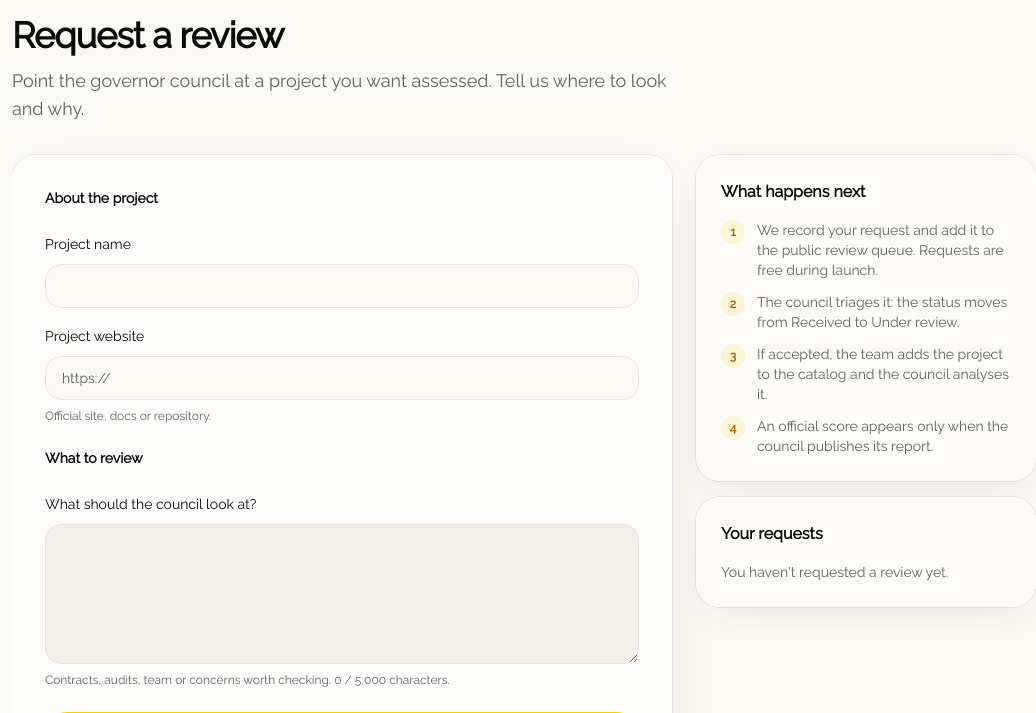
Test: AnalysisRequestPage › signed in › asks to sign in again when the session has expired
Type "Orbit Bridge" into the field labelled "Project name" at (342, 286), box [45,264,639,308]
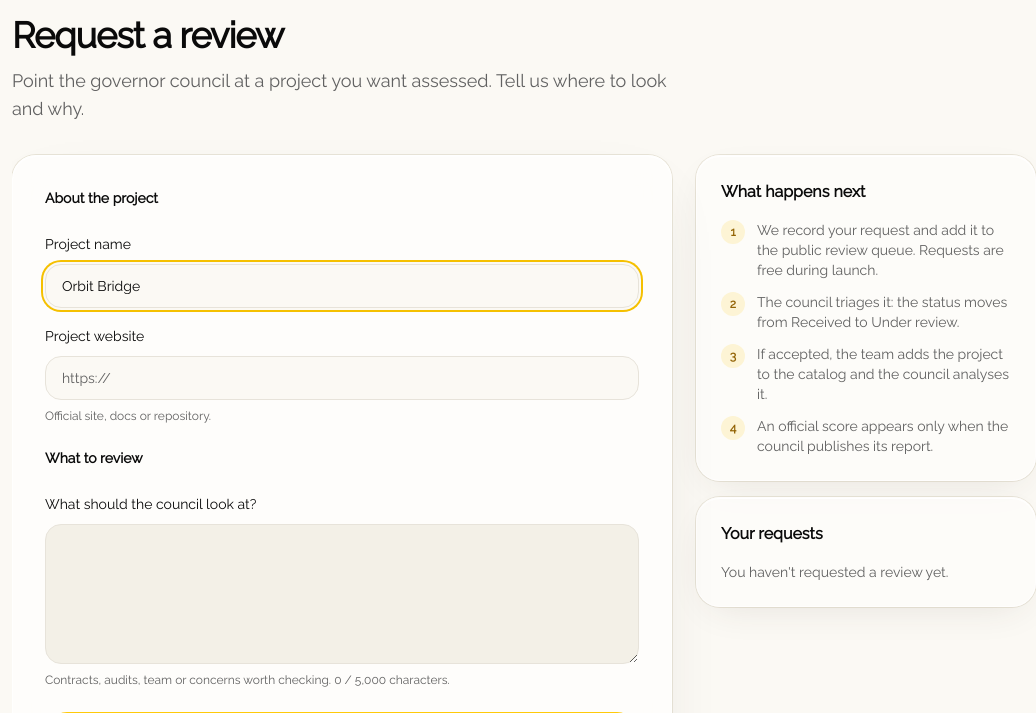
Type "https://orbit.example" into the field labelled "Project website" at (342, 378), box [45,356,639,400]
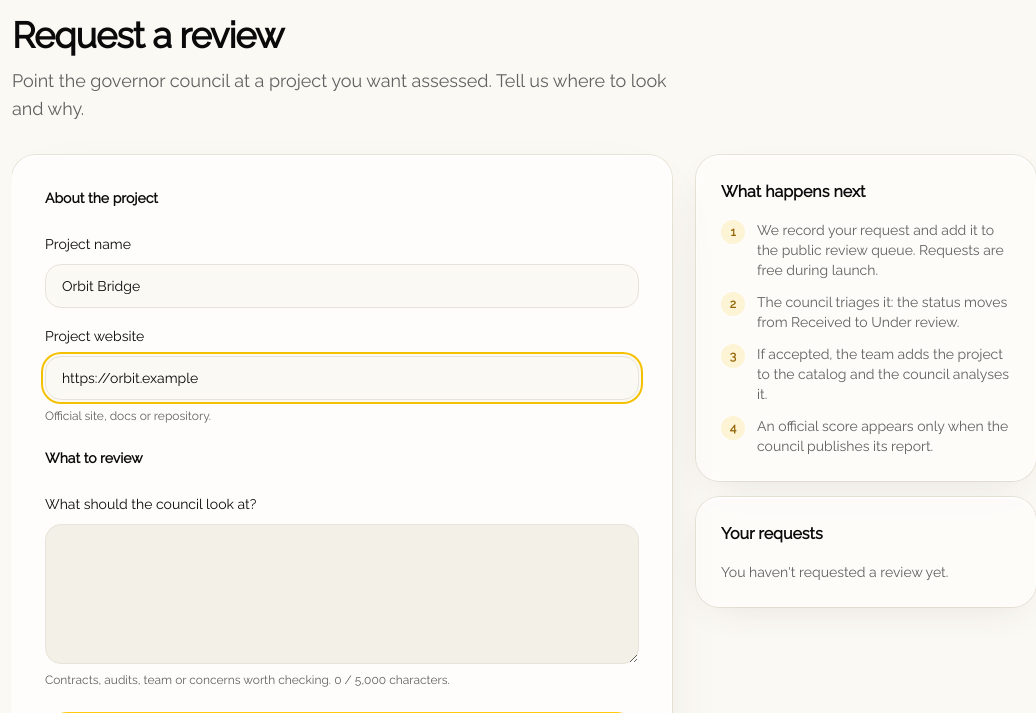
Type "Cross-chain bridge with a new validator set." into the text box labelled "What should the council look at?" at (342, 594), box [45,524,639,664]
(page scrolled)
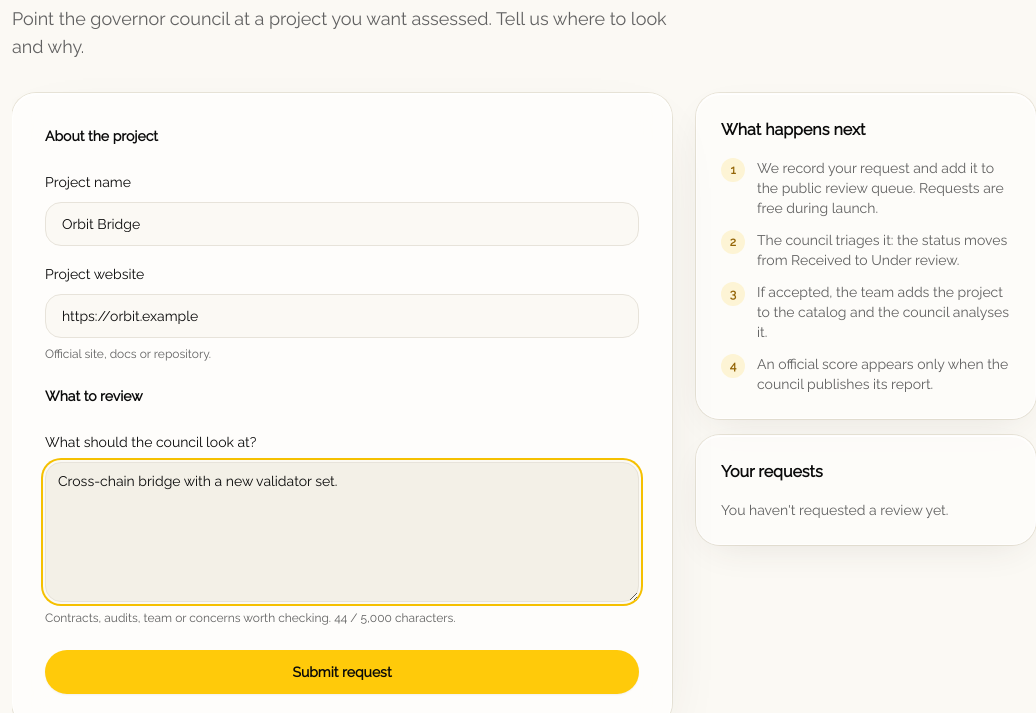
Click the button "Submit request" at (342, 672), box [45,650,639,694]
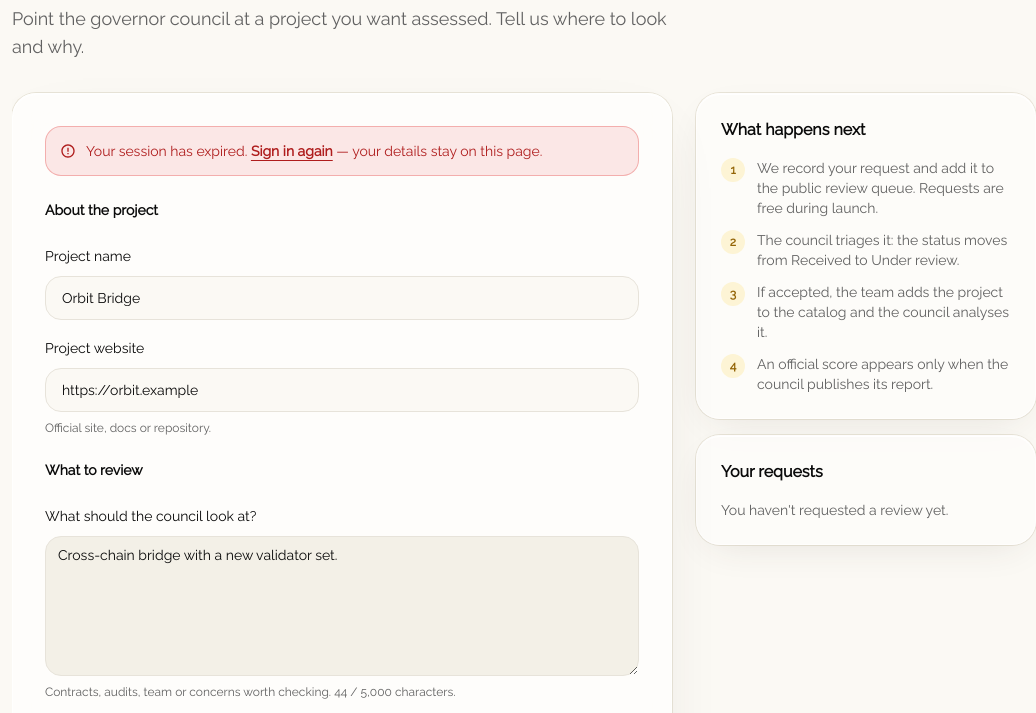
Expected: the message shows "Your session has expired.", [86,143,247,159]
